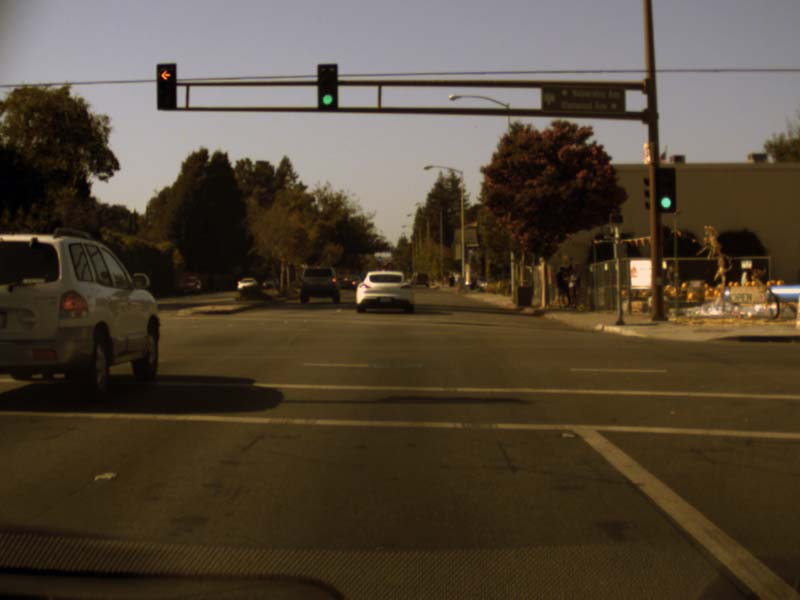Green: (317, 63, 337, 110), (654, 167, 675, 211)
Red: (156, 63, 175, 109)
